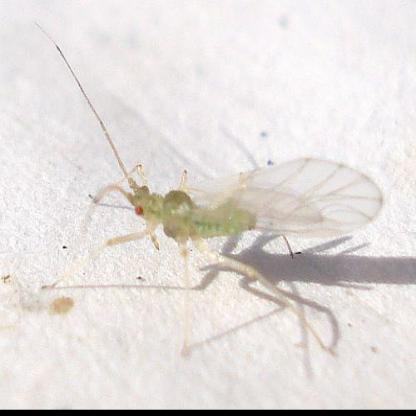aphid: (37, 53, 396, 356)
